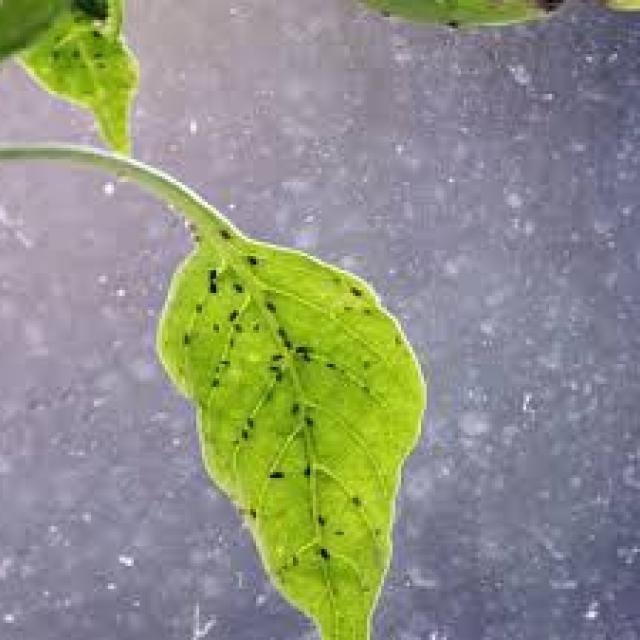bercak_daun: (151, 230, 424, 640)
